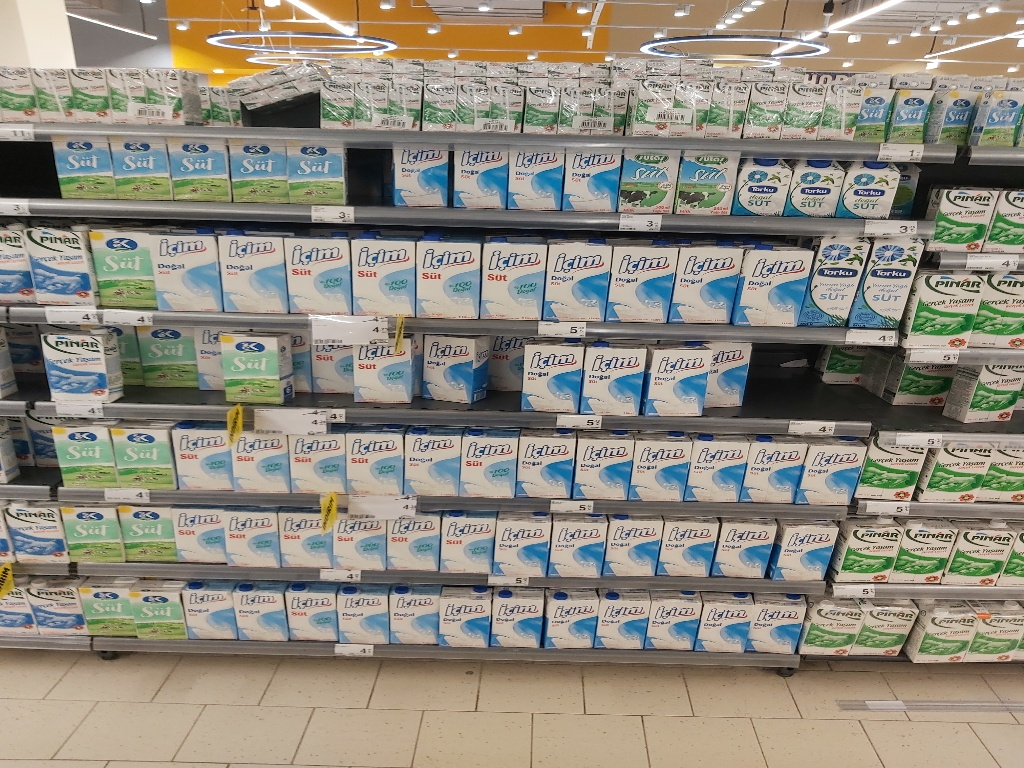urun: (24, 223, 95, 311), (86, 219, 156, 307), (477, 234, 547, 320), (541, 238, 611, 324), (218, 228, 287, 314), (284, 229, 353, 315), (348, 229, 417, 315), (412, 232, 481, 317), (40, 329, 118, 403), (856, 233, 916, 329), (741, 243, 810, 324), (639, 344, 713, 419), (608, 241, 677, 321), (673, 241, 742, 321), (943, 361, 1021, 428), (152, 230, 215, 311), (804, 225, 856, 323), (348, 338, 419, 408), (419, 337, 489, 407), (915, 440, 987, 507), (518, 340, 584, 412), (582, 340, 648, 412), (5, 498, 67, 571), (51, 422, 115, 492), (110, 425, 174, 494), (169, 424, 233, 493), (234, 333, 292, 407), (76, 577, 138, 646), (932, 184, 998, 248), (833, 521, 899, 585), (796, 444, 861, 508), (858, 439, 923, 503), (947, 522, 1010, 588), (228, 430, 292, 494), (282, 431, 346, 495), (342, 431, 406, 495), (399, 433, 463, 497), (913, 605, 974, 672), (285, 141, 346, 207), (564, 146, 625, 212), (51, 134, 111, 201), (110, 138, 170, 205), (506, 148, 566, 215), (893, 521, 951, 590), (172, 140, 232, 206), (224, 141, 284, 207), (392, 145, 452, 211), (447, 141, 507, 207), (620, 150, 680, 216), (676, 150, 736, 216), (59, 500, 119, 566), (118, 504, 178, 570), (137, 324, 195, 392), (655, 518, 718, 579), (713, 518, 776, 579), (774, 522, 833, 586), (573, 438, 634, 499), (628, 439, 689, 500), (458, 435, 518, 497), (513, 438, 573, 499), (690, 439, 750, 500), (742, 443, 801, 504), (440, 513, 497, 575), (28, 579, 86, 639), (550, 512, 607, 573), (605, 516, 662, 577), (173, 504, 229, 566), (278, 509, 334, 571), (732, 155, 787, 218), (790, 156, 845, 219), (842, 160, 897, 223), (224, 507, 280, 568), (332, 516, 388, 577), (387, 515, 443, 576), (494, 515, 550, 576), (132, 582, 186, 640), (180, 585, 234, 643), (440, 590, 494, 648), (498, 595, 552, 653), (598, 595, 652, 653), (701, 596, 755, 654), (229, 588, 283, 645), (284, 589, 338, 646), (333, 588, 387, 645), (810, 603, 864, 660), (387, 591, 440, 649), (547, 596, 600, 654), (648, 596, 701, 654), (753, 599, 806, 657), (858, 602, 911, 659), (975, 81, 1020, 146), (890, 79, 934, 145), (150, 64, 196, 123), (627, 78, 675, 134), (855, 76, 893, 145), (64, 59, 108, 118), (108, 58, 148, 120), (745, 79, 786, 136), (705, 78, 746, 134), (420, 74, 458, 127), (826, 81, 858, 143), (792, 82, 826, 138), (488, 79, 524, 131), (522, 79, 558, 131), (453, 78, 489, 129), (557, 78, 593, 129), (320, 76, 353, 127), (355, 77, 388, 128), (392, 76, 425, 127)
urun2: (29, 63, 73, 122)
